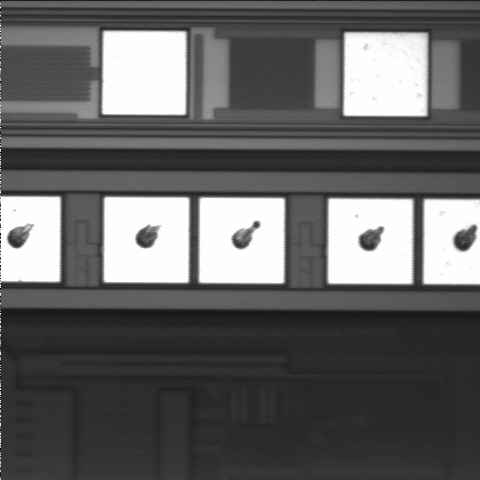pad: (104, 197, 189, 283), (199, 198, 284, 283), (328, 199, 413, 284), (102, 31, 186, 115), (344, 33, 427, 116)
